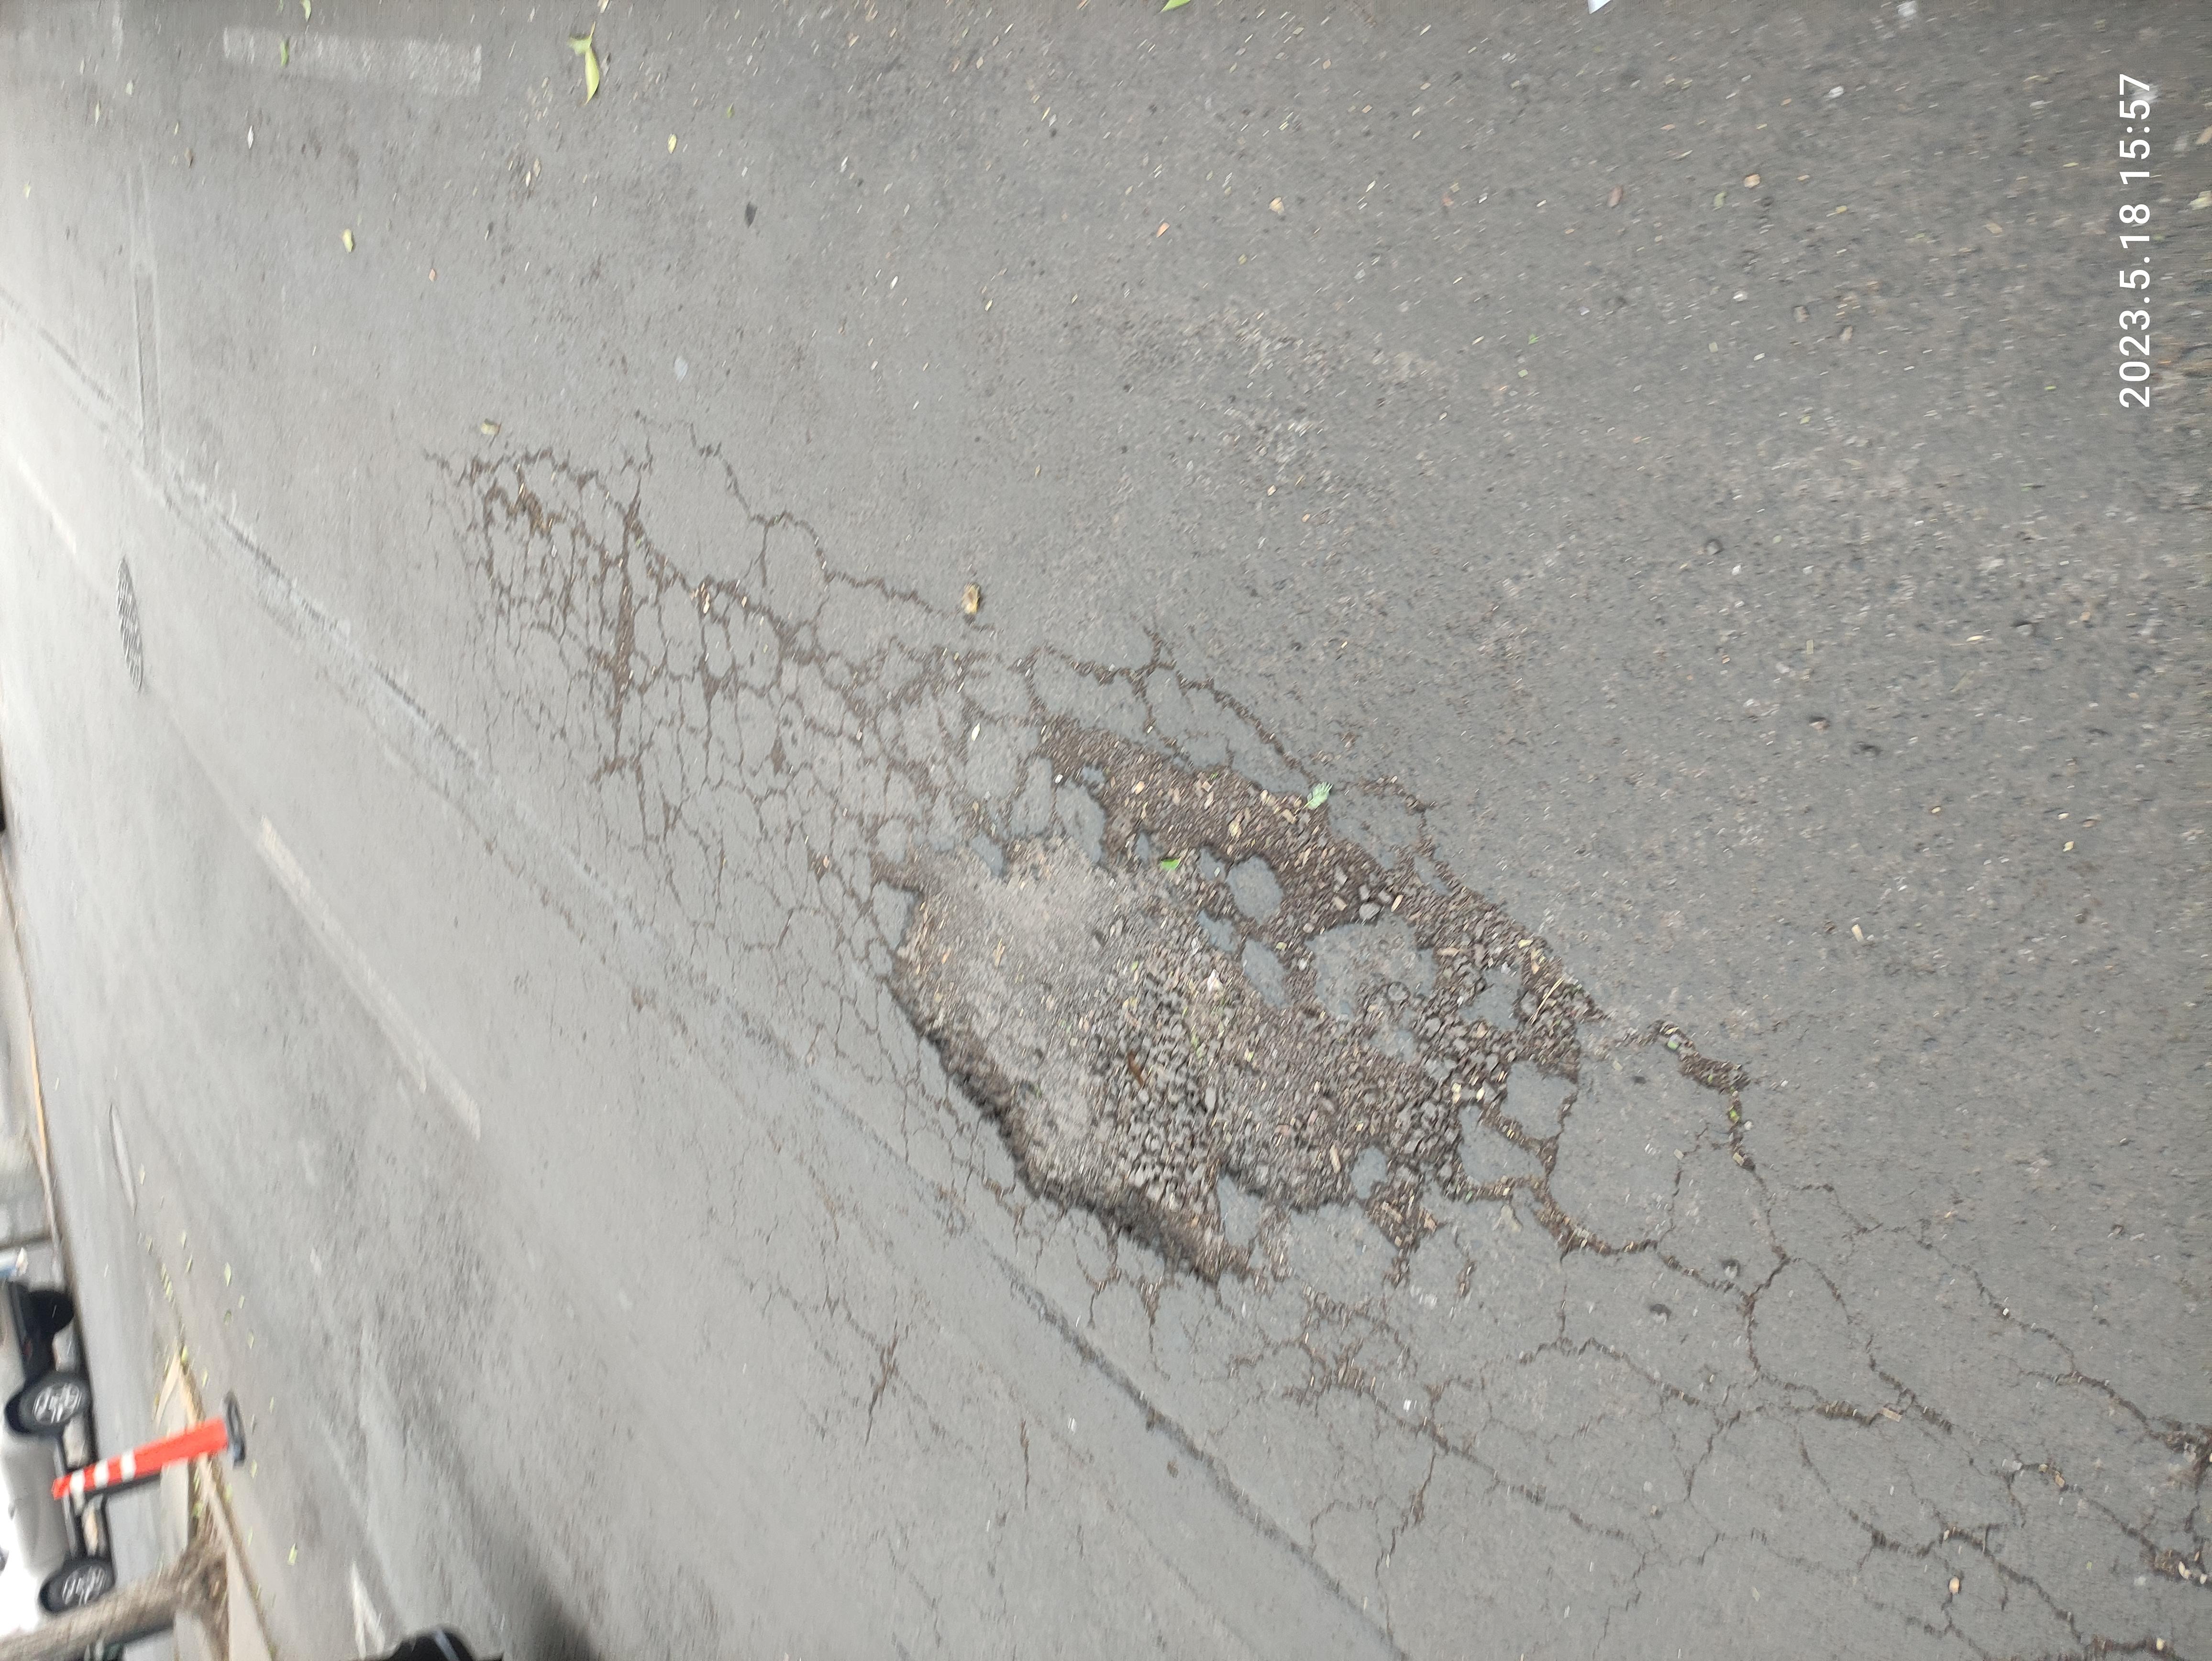alligator-crack: (0, 899, 799, 1649), (975, 307, 1717, 726)
pothole: (532, 632, 1303, 1207)
